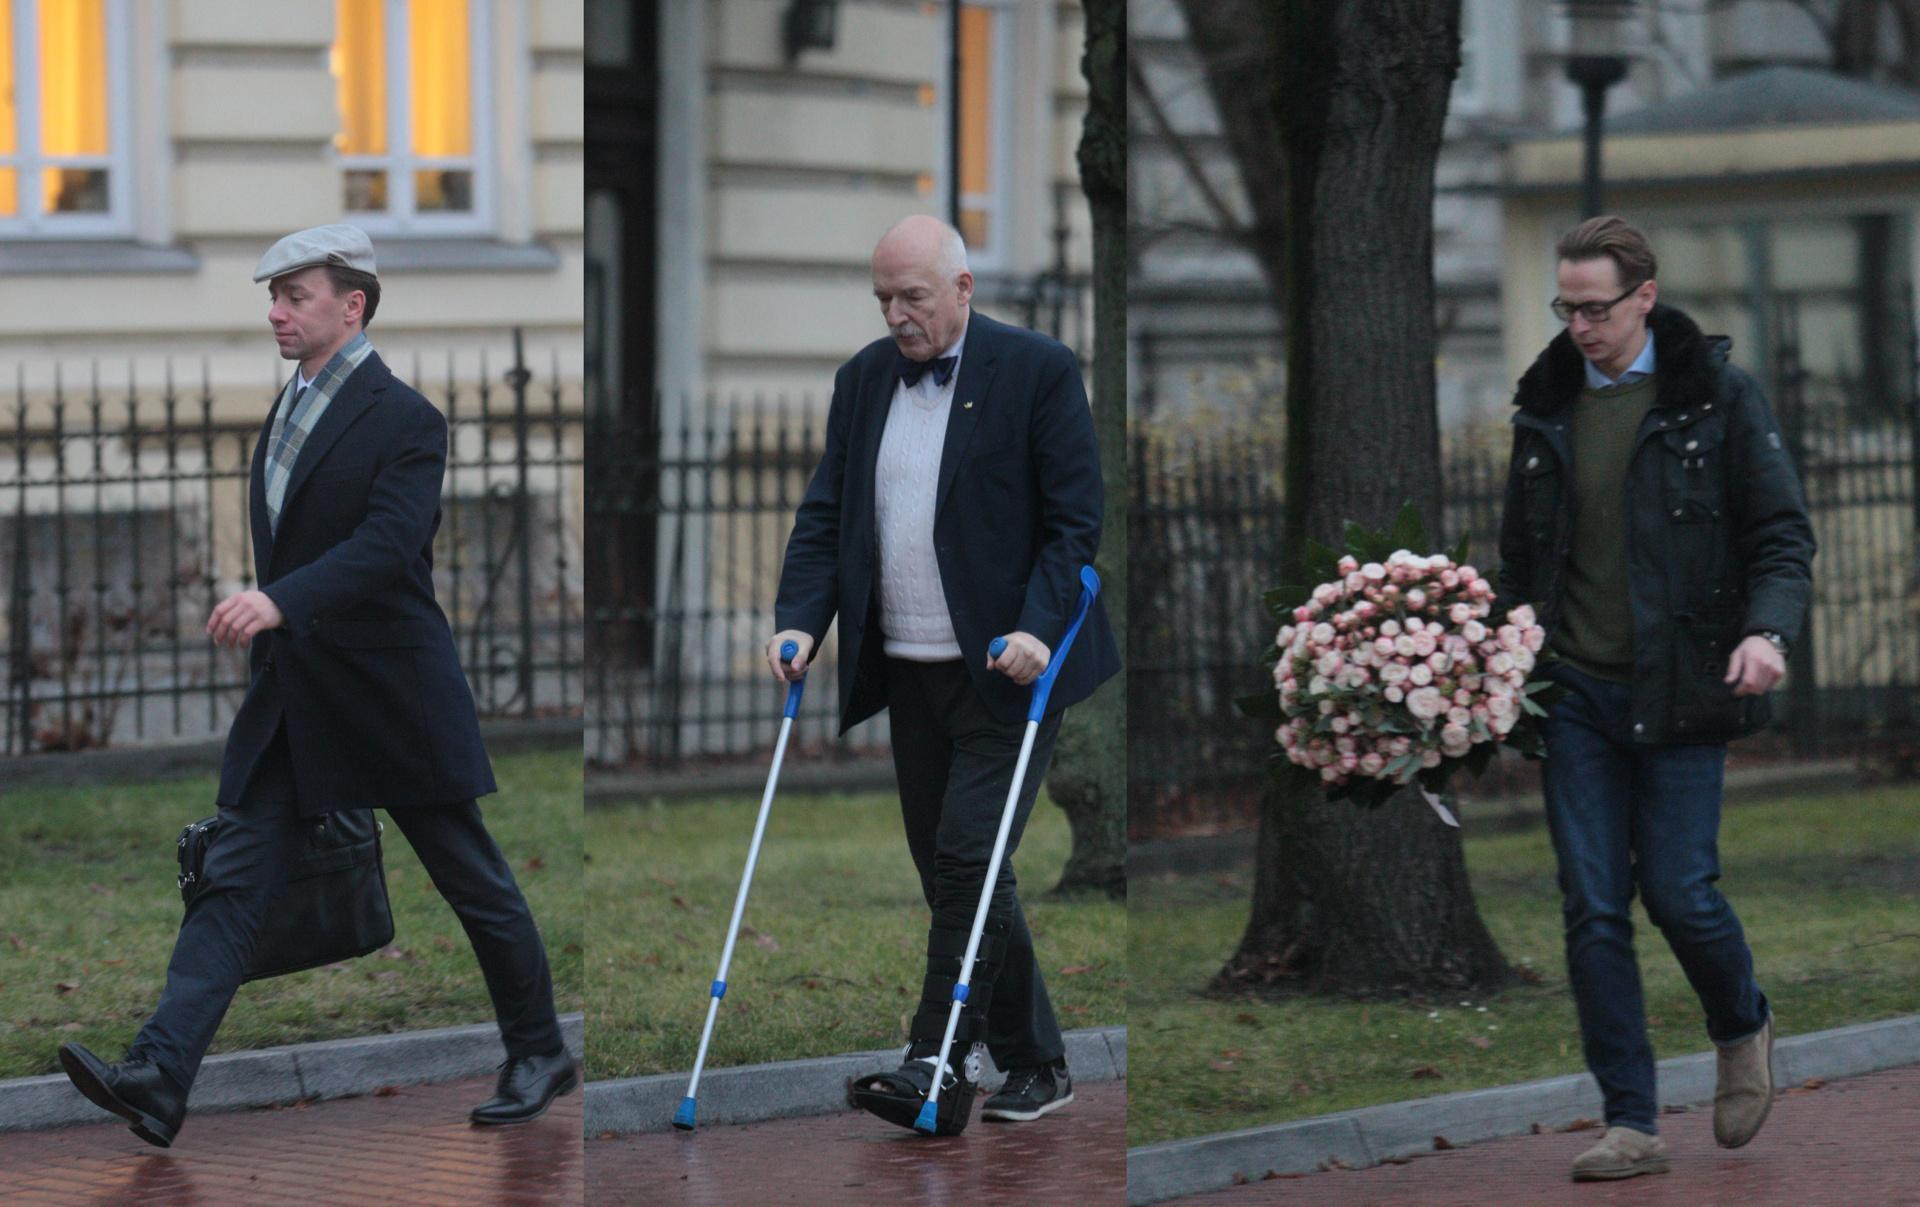crutches: (645, 186, 1116, 1160)
